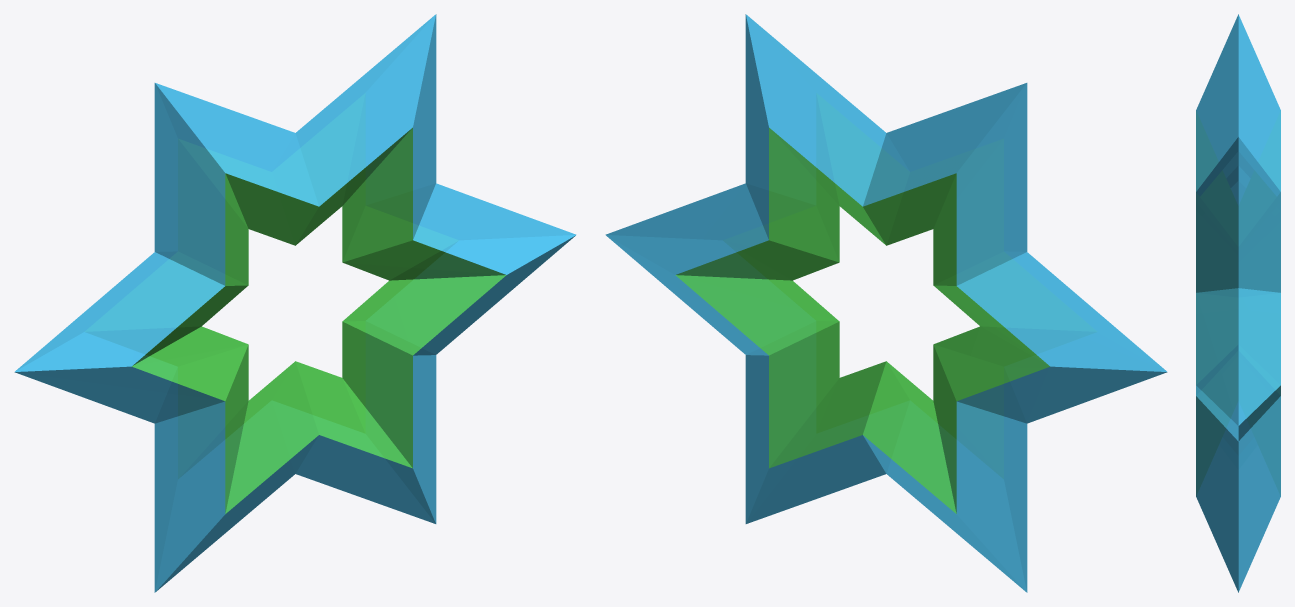
The model's file is Regular6TetragonalStarToroid.obj.
3 views of the same model, side by side, from view 1: azimuth 30°, elevation 25°; view 2: azimuth 150°, elevation 25°; view 3: azimuth 270°, elevation 25° (orthographic). The views are drawn at different scales.
Size of the model in its own units: 4.8 by 4.16 by 0.7.
